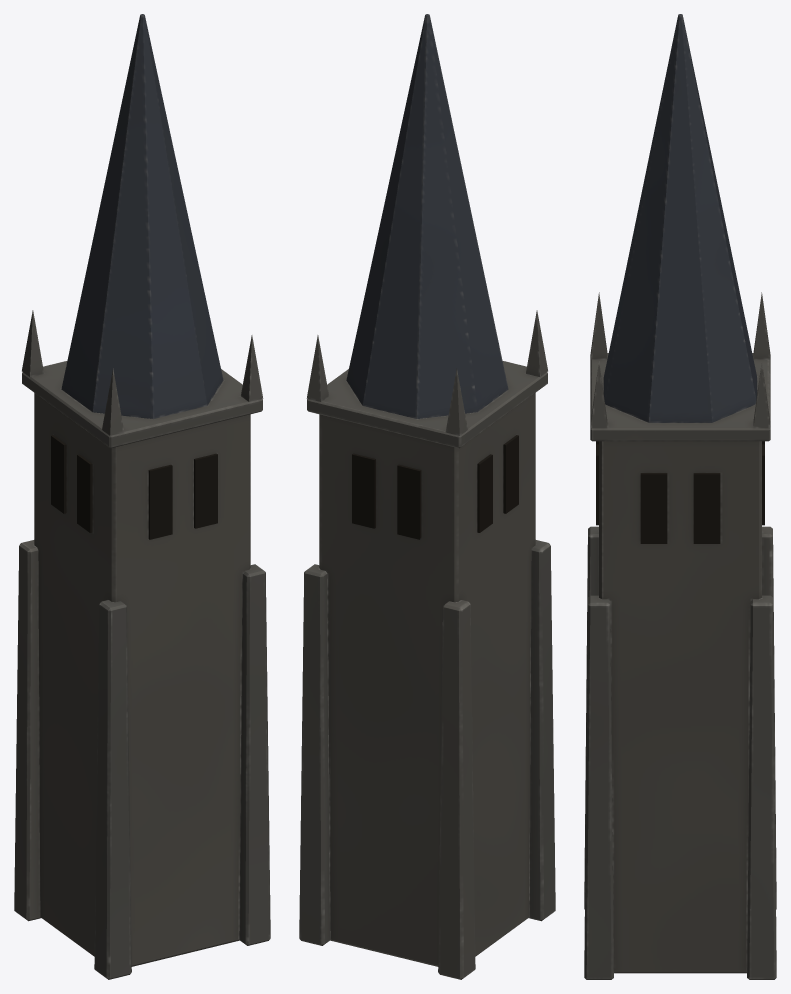
Rendered from gallows_skyline_spire.glb.
3 renders of one model, left to right at view 1: azimuth 30°, elevation 25°; view 2: azimuth 150°, elevation 25°; view 3: azimuth 270°, elevation 25°, orthographic.
Parts seen in each view (by area): view 1: gallows_skyline_spire; view 2: gallows_skyline_spire; view 3: gallows_skyline_spire.
Part boxes in pixels (x1,y1,x2,y2): gallows_skyline_spire: [14, 14, 270, 979]; gallows_skyline_spire: [299, 14, 555, 979]; gallows_skyline_spire: [584, 14, 776, 979].
Bounding box in the file's own units: 6.5 × 34.5 × 6.5.
Materials: 1 (1 with a texture image).
